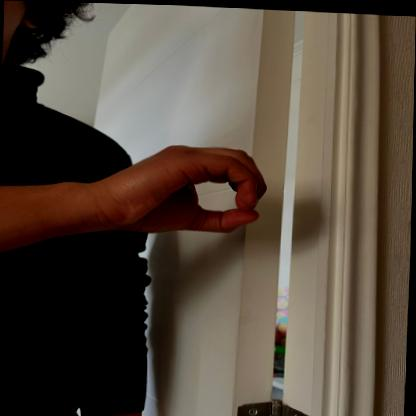O: (121, 130, 272, 243)
